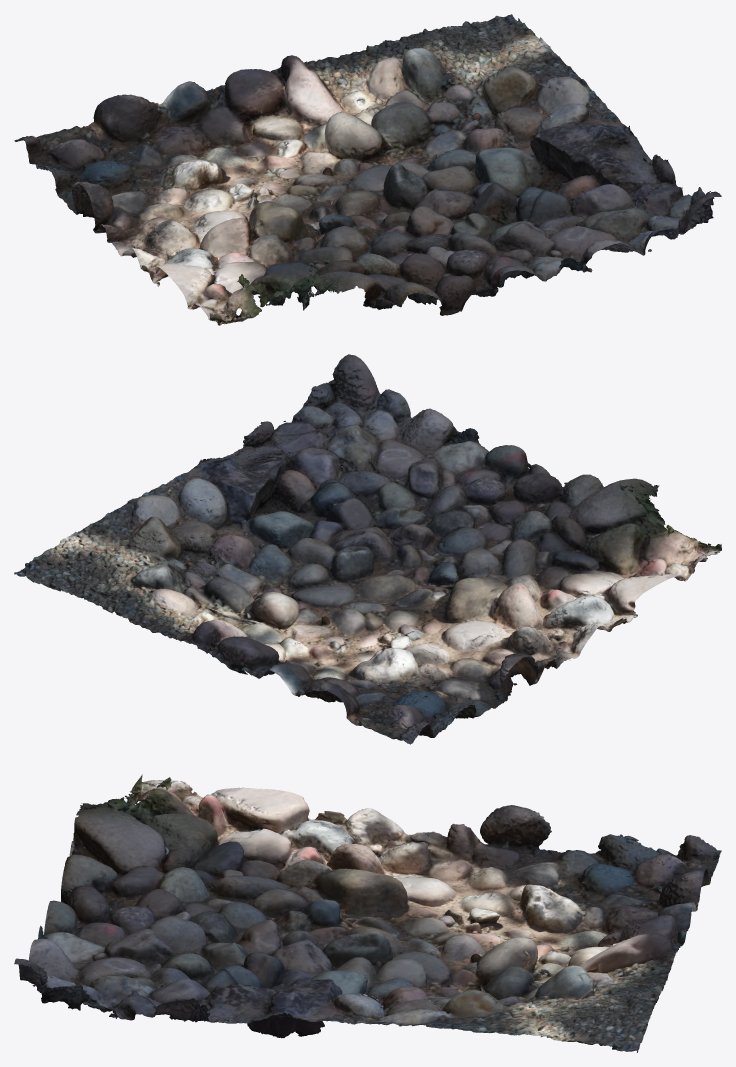
The model's file is sf-asu-garden-rocks-3d-scan-35ccb6.glb.
3 renders of one model, top to bottom at view 1: azimuth 30°, elevation 25°; view 2: azimuth 150°, elevation 25°; view 3: azimuth 270°, elevation 25°, orthographic. The views are drawn at different scales.
Visible parts, largest first — view 1: Object_2; view 2: Object_2; view 3: Object_2.
Part boxes in pixels (left/top/right/bottom): Object_2: left=14, top=14, right=721, bottom=325; Object_2: left=14, top=354, right=721, bottom=744; Object_2: left=14, top=774, right=721, bottom=1052.
Bounding box in the file's own units: 41.18 × 7.31 × 43.51.
Materials: 1 (1 with a texture image).
